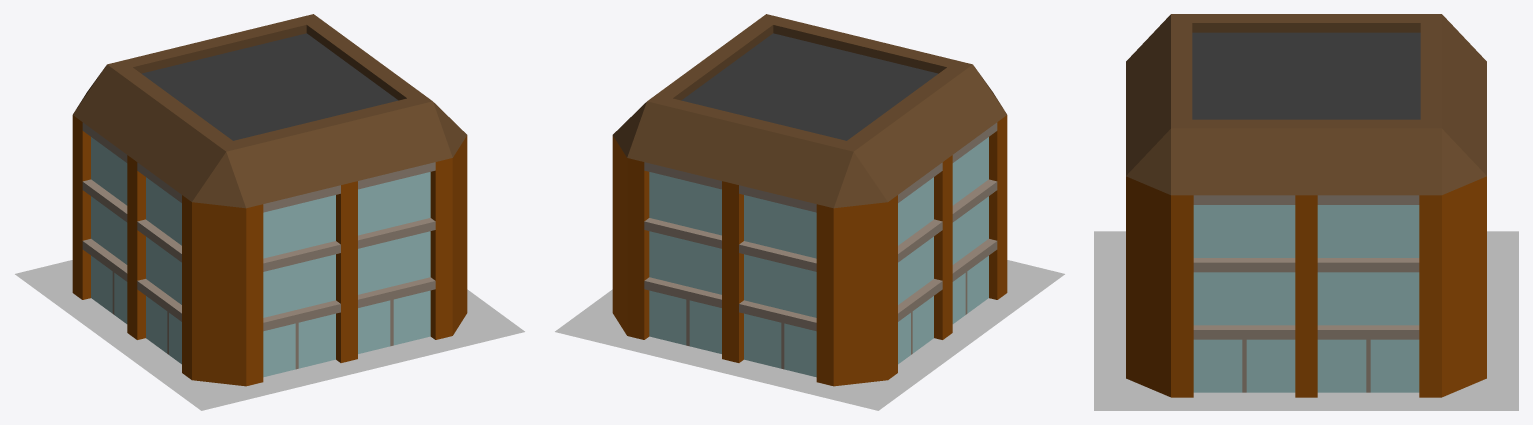
The model's file is building1-1.dae.
3 views of the same model, side by side, from view 1: azimuth 30°, elevation 25°; view 2: azimuth 150°, elevation 25°; view 3: azimuth 270°, elevation 25° (orthographic). The views are drawn at different scales.
Parts seen in each view (by area): view 1: SketchUp (×35); view 2: SketchUp (×35); view 3: SketchUp (×21).
Part boxes in pixels (<box>): SketchUp (×35): <box>15,14,524,410</box>; SketchUp (×35): <box>555,14,1064,410</box>; SketchUp (×21): <box>1094,14,1518,410</box>.
Size of the model in its own units: 39.37 by 39.37 by 25.55.
